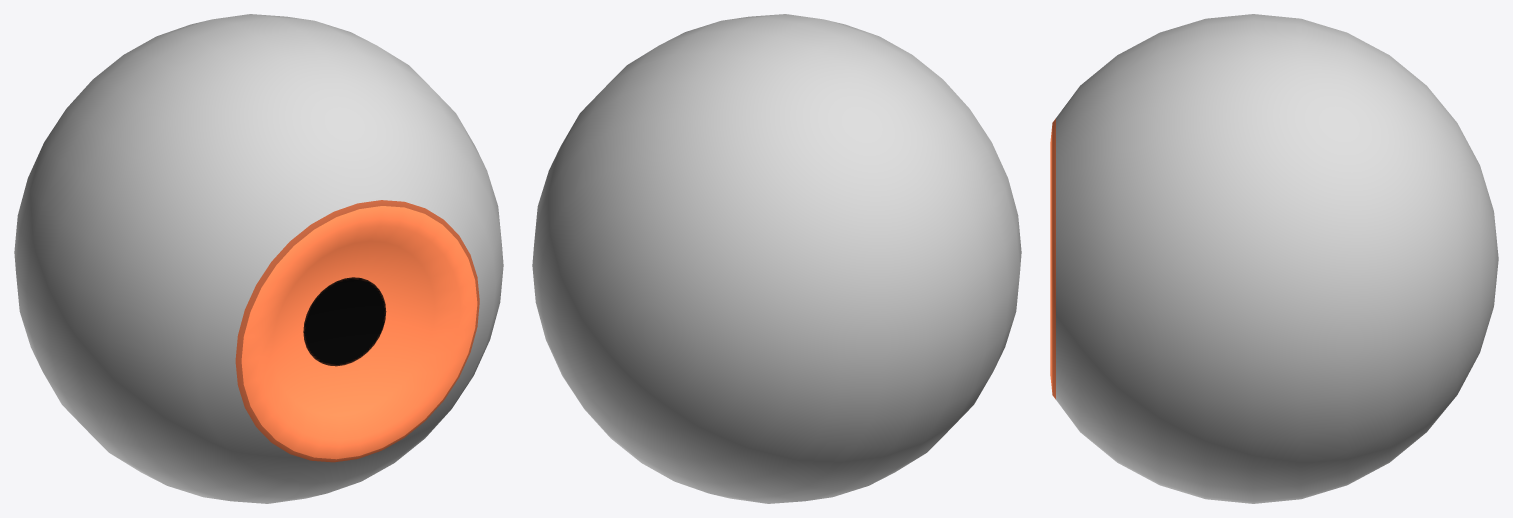
Rendered from Player Eye New.fbx.
3 views of the same model, side by side, from view 1: azimuth 30°, elevation 25°; view 2: azimuth 150°, elevation 25°; view 3: azimuth 270°, elevation 25° (orthographic).
Visible parts, largest first — view 1: Inner Eye; view 2: Inner Eye; view 3: Inner Eye.
Boxes of the visible parts, x1,y1,x2,y2 form: Inner Eye: [14, 14, 503, 503]; Inner Eye: [532, 14, 1021, 503]; Inner Eye: [1050, 14, 1498, 503].
Size of the model in its own units: 196 by 196 by 179.
